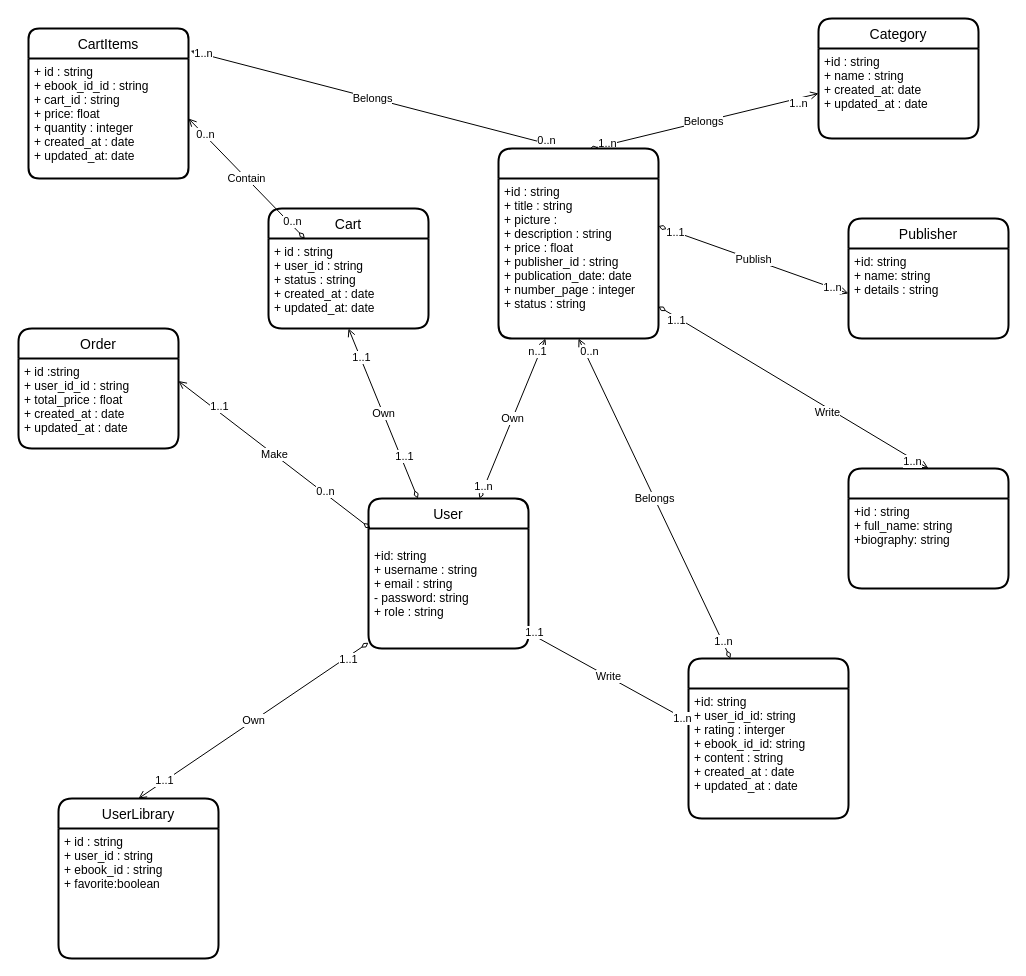
Image size: 1026x976. Some labels were removed from this diagram. The box of each missing label's shape, as (x1, y1, x2, y2) in pixels:
Author: (847, 467, 1009, 589)
Ebook: (497, 147, 659, 339)
Review: (687, 657, 849, 819)
